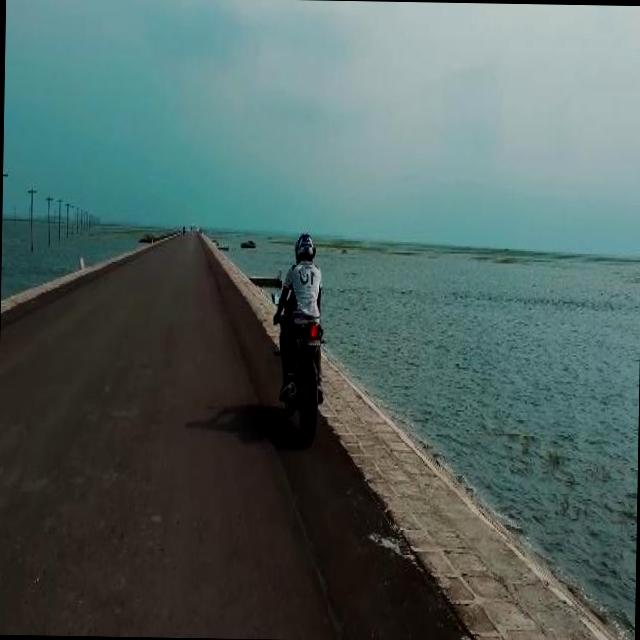motorcycle: (270, 230, 328, 443)
